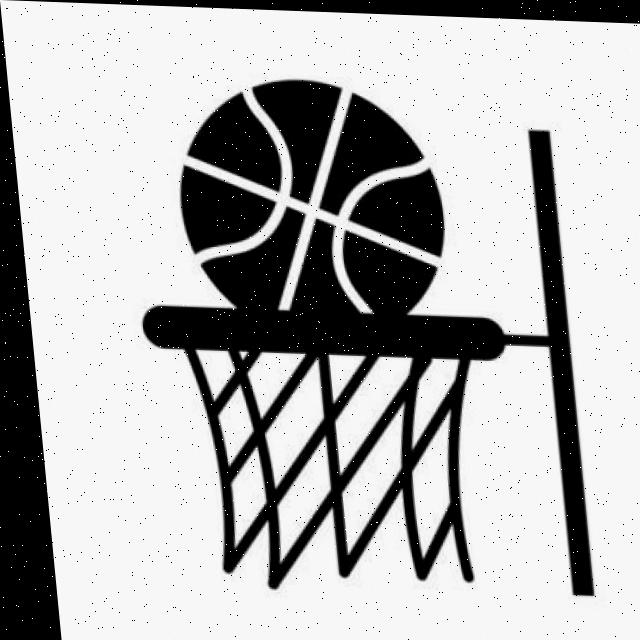Basketball: (168, 76, 453, 320)
hoop: (139, 305, 531, 597)
